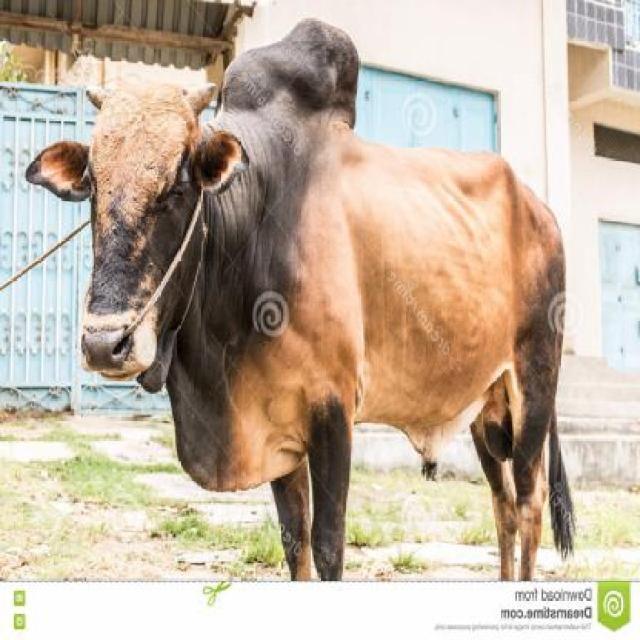Cow: (26, 17, 580, 581)
